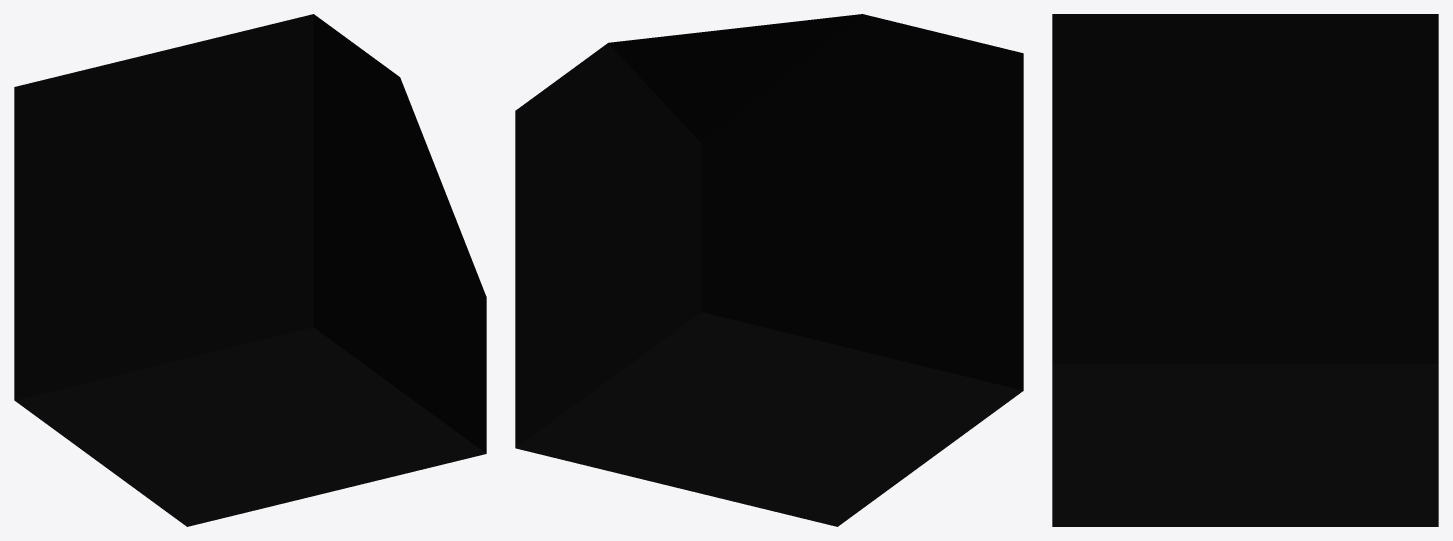
Rendered from r6c6_border_black.gltf.
The picture shows the model from 3 angles, left to right: view 1: azimuth 30°, elevation 25°; view 2: azimuth 150°, elevation 25°; view 3: azimuth 270°, elevation 25°; orthographic projection. The views are drawn at different scales.
Visible parts, largest first — view 1: r6c6_border_black; view 2: r6c6_border_black; view 3: r6c6_border_black.
Part boxes in pixels (x1=…): r6c6_border_black: x1=14, y1=14, x2=486, y2=526; r6c6_border_black: x1=515, y1=14, x2=1023, y2=526; r6c6_border_black: x1=1052, y1=14, x2=1438, y2=526.
Bounding box in the file's own units: 2.1 × 2.1 × 2.1.
Materials: 1 (1 with a texture image).
